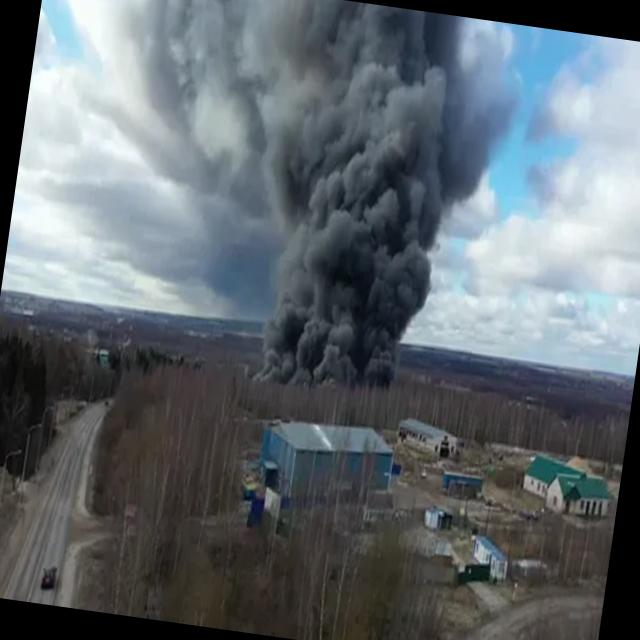Smoke: (107, 0, 519, 401)
